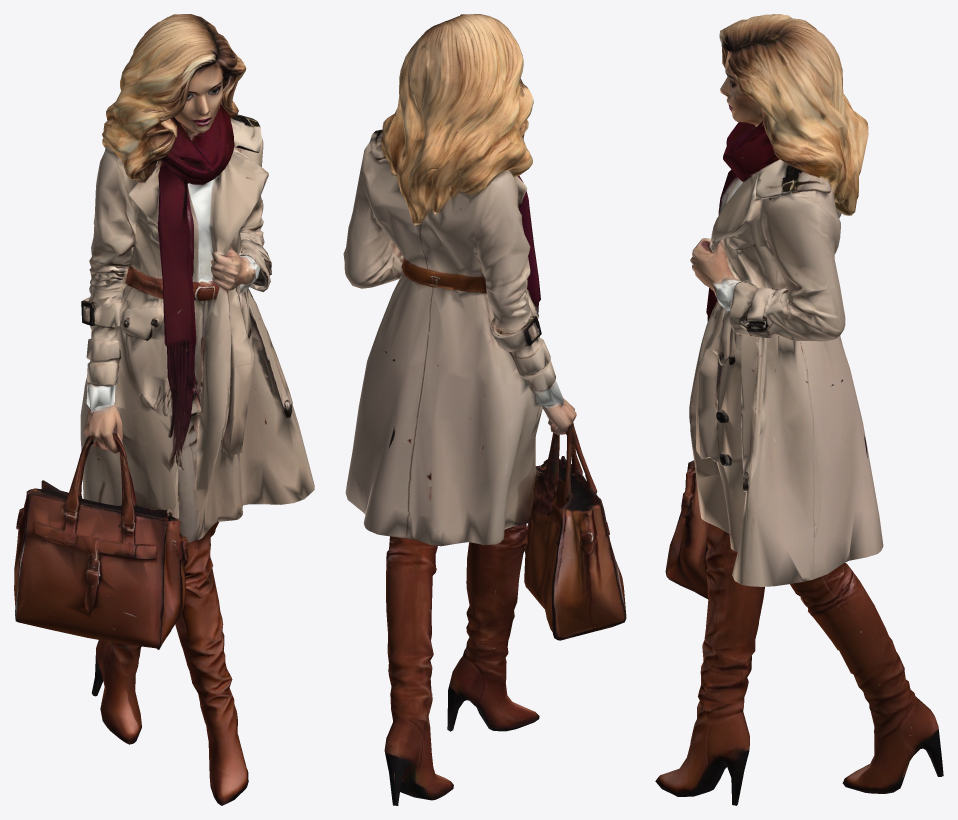
Rendered from autumn.glb.
3 views of the same model, side by side, from view 1: azimuth 30°, elevation 25°; view 2: azimuth 150°, elevation 25°; view 3: azimuth 270°, elevation 25° (orthographic). The views are drawn at different scales.
Size of the model in its own units: 0.7643 by 1.9 by 0.6371.
Materials: 1 (1 with a texture image).
